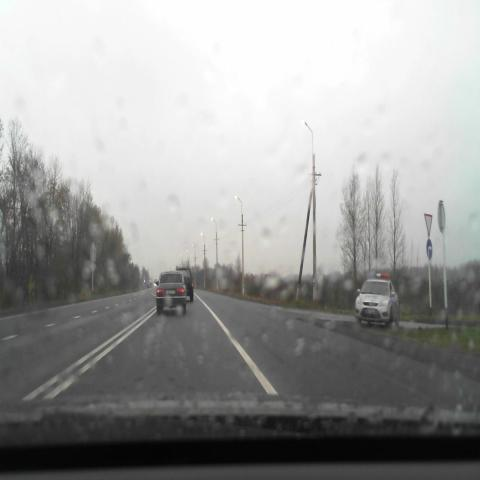2_4: (424, 213, 432, 237)
